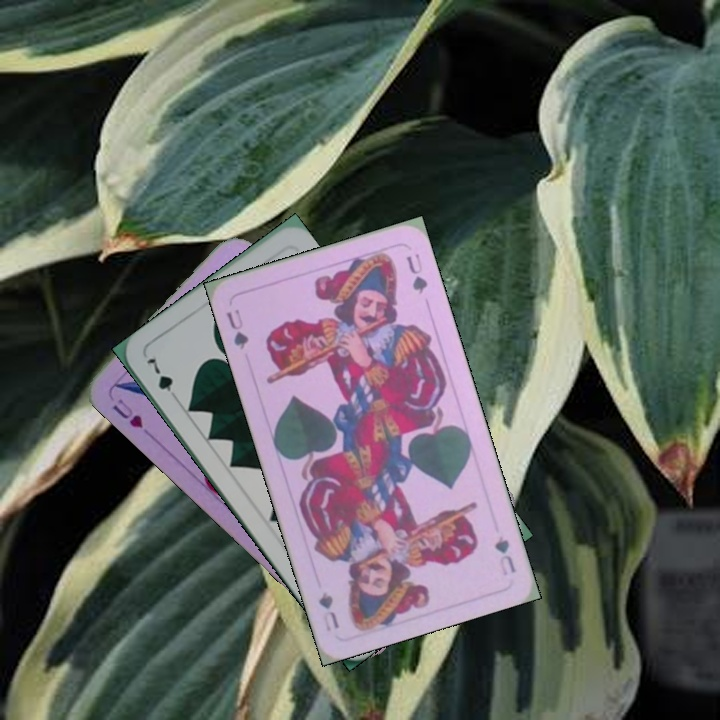G7: (142, 354, 182, 405)
GU: (222, 305, 251, 353), (490, 532, 519, 578)
HU: (108, 394, 146, 431)
